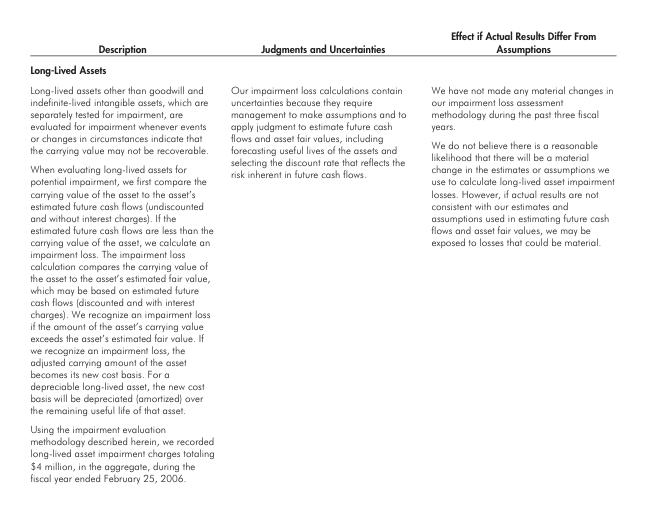table: (29, 28, 613, 482)
table column: (221, 28, 418, 482), (418, 28, 613, 482), (29, 28, 221, 482)
table column header: (29, 28, 613, 58)
table projected row header: (29, 58, 613, 79)
table row: (29, 79, 613, 482), (29, 28, 613, 58), (29, 58, 613, 79)
